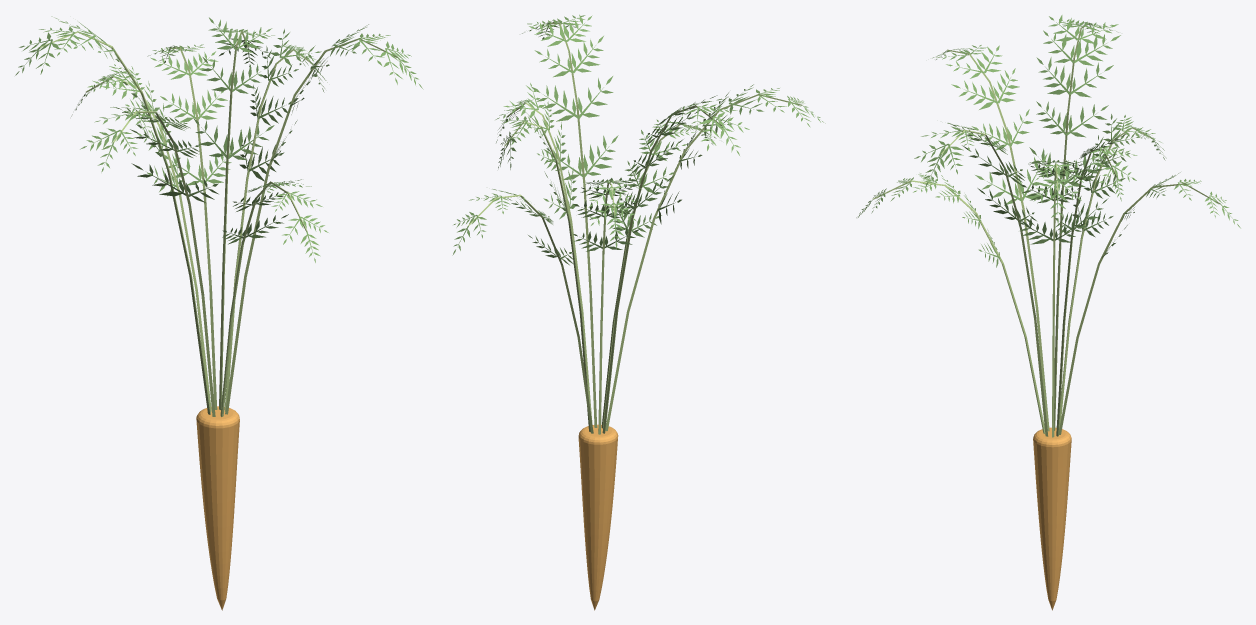
Rendered from carrot_harvest_v19.glb.
The picture shows the model from 3 angles, left to right: view 1: azimuth 30°, elevation 25°; view 2: azimuth 150°, elevation 25°; view 3: azimuth 270°, elevation 25°; orthographic projection. The views are drawn at different scales.
Parts seen in each view (by area): view 1: plant; view 2: plant; view 3: plant.
Part boxes in pixels (x1,y1,x2,y2): plant: (15,16,423,610); plant: (452,14,825,610); plant: (856,15,1240,610).
Bounding box in the file's own units: 0.3161 × 0.5581 × 0.3676.
1 material, 1 textured.
